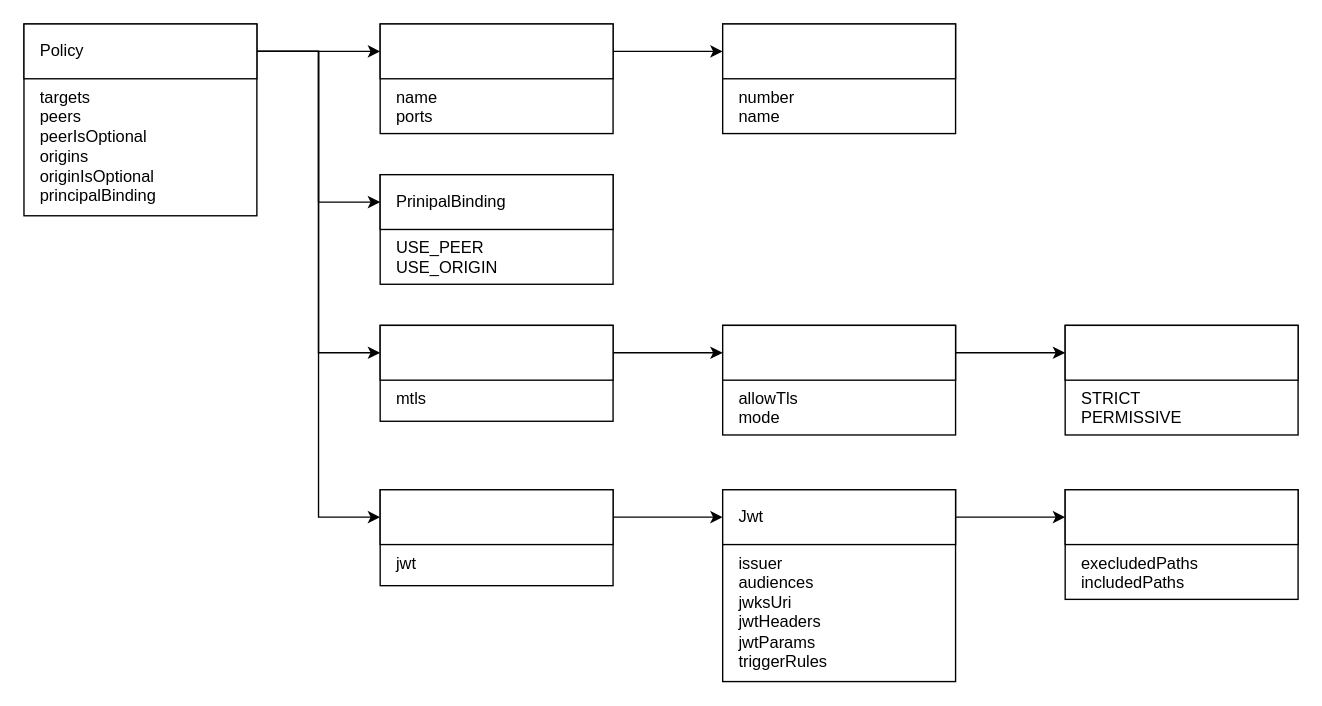
The diagram is 1322 pixels wide and 706 high, and some of its shapes have lost their labels. Each missing label, with the centre of its shape:
"MutualTls" belongs at point (838, 352).
"MutualTls.Mode" belongs at point (1181, 352).
"OriginAutherticationMethod" belongs at point (496, 516).
"PeerAuthenticationMethod" belongs at point (496, 352).
"PortSelector" belongs at point (838, 51).
"TargetSelector" belongs at point (496, 51).
"TriggerRule" belongs at point (1181, 516).
